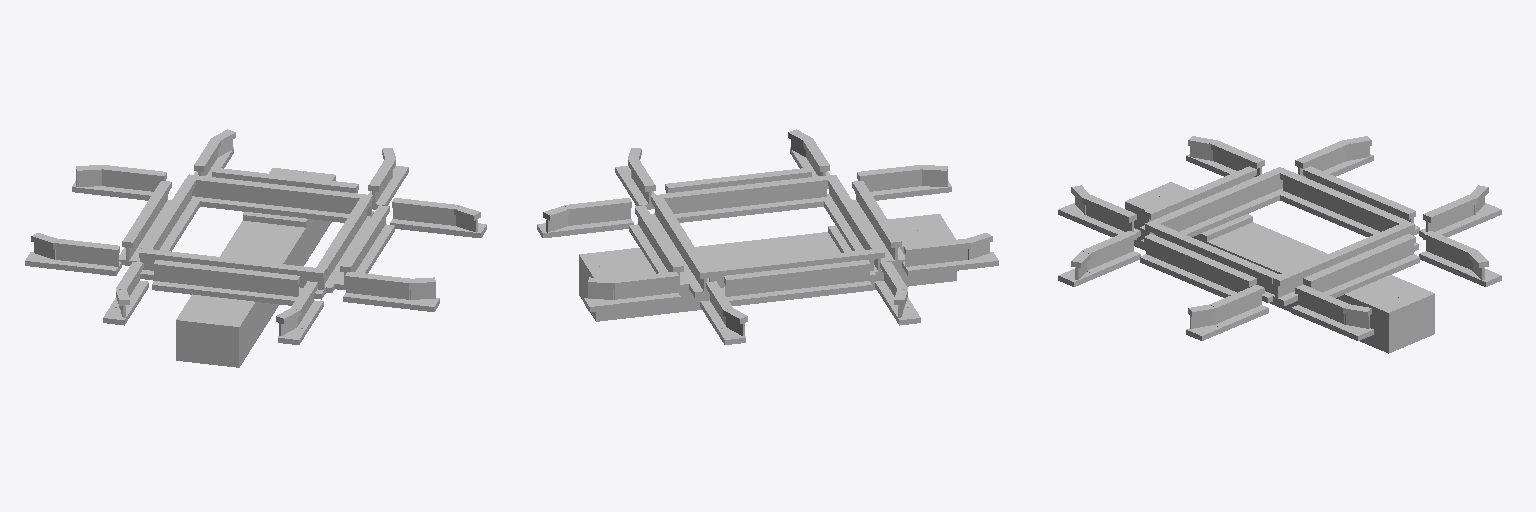
The model's file is cross_diag.obj.
3 views of the same model, side by side, from view 1: azimuth 30°, elevation 25°; view 2: azimuth 150°, elevation 25°; view 3: azimuth 270°, elevation 25° (orthographic).
Visible parts, largest first — view 1: cube; view 2: cube; view 3: cube.
Part boxes in pixels (left/top/right/bottom): cube: left=25, top=129, right=486, bottom=367; cube: left=537, top=129, right=998, bottom=344; cube: left=1058, top=136, right=1501, bottom=353.
Bounding box in the file's own units: 2.97 × 0.4738 × 2.97.